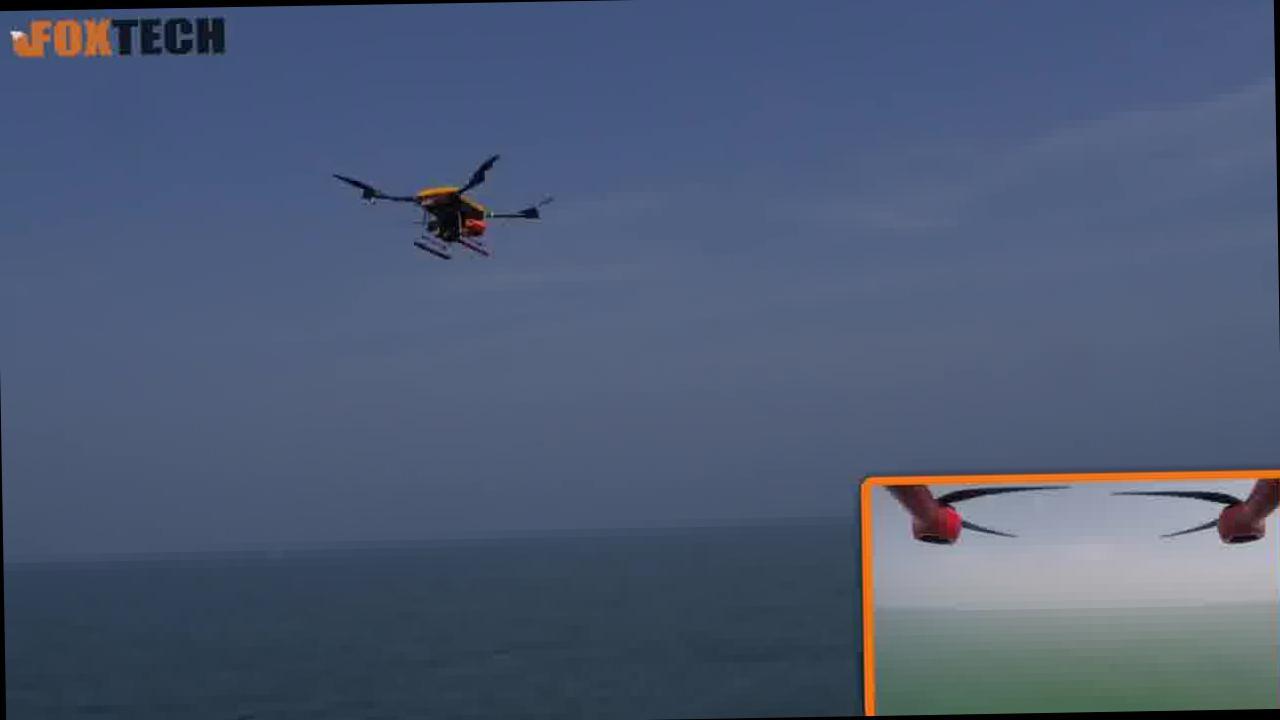drone: (342, 115, 560, 274)
